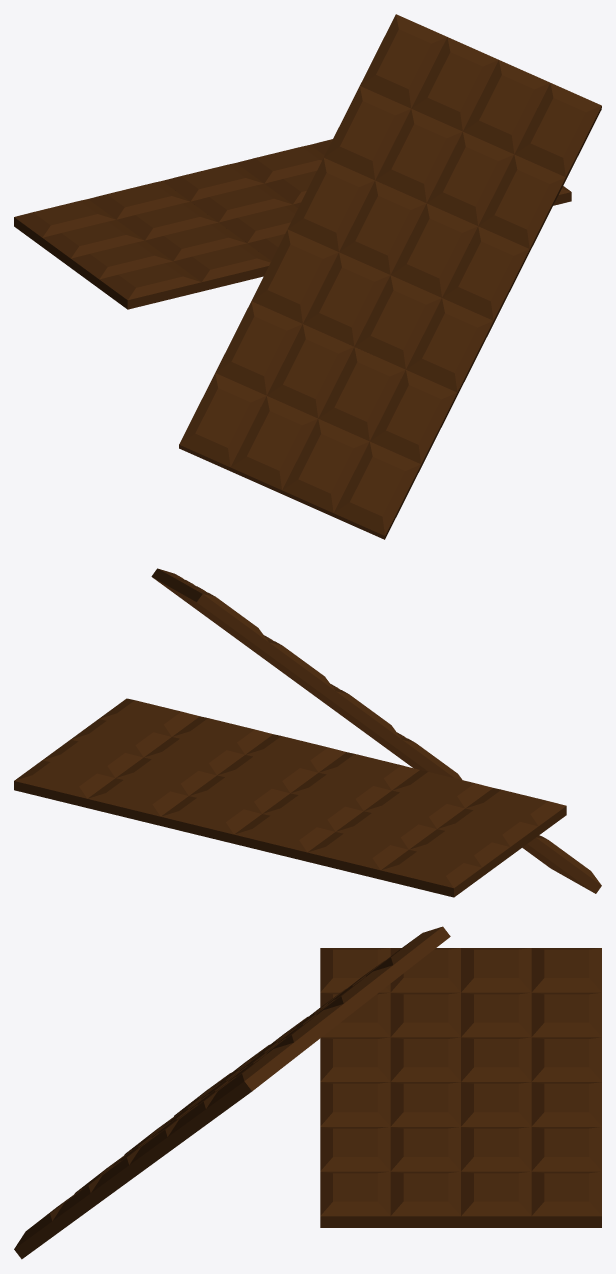
Rendered from chocolate.glb.
3 renders of one model, top to bottom at view 1: azimuth 30°, elevation 25°; view 2: azimuth 150°, elevation 25°; view 3: azimuth 270°, elevation 25°, orthographic. The views are drawn at different scales.
Visible parts, largest first — view 1: Cube.027, Cube.026, Cube.029, Cube.028, Cube.044, Cube.035, Cube.032, Cube.024, Cube.047, Cube.042, Cube.037, Cube.036 (+25 smaller); view 2: Cube.020, Cube.012, Cube.015, Cube.023, Cube.003, Cube, Cube.019, Cube.021, Cube.018, Cube.002, Cube.010, Cube.017 (+17 smaller); view 3: Cube.001, Cube.006, Cube, Cube.007, Cube.022, Cube.016, Cube.023, Cube.002, Cube.003, Cube.004, Cube.005, Cube.008 (+21 smaller).
Boxes of the visible parts, x1,y1,x2,y2 form: Cube.027: (333,441,421,539); Cube.026: (282,418,369,516); Cube.029: (179,373,266,470); Cube.028: (230,396,317,493); Cube.044: (478,154,565,251); Cube.035: (406,298,493,395); Cube.032: (442,226,529,323); Cube.024: (370,370,457,467); Cube.047: (514,83,601,180); Cube.042: (324,86,410,180); Cube.037: (251,229,338,323); Cube.036: (303,252,390,346); Cube.020: (380,850,482,897); Cube.012: (234,814,334,861); Cube.015: (160,796,261,843); Cube.023: (307,832,408,879); Cube.003: (87,778,188,825); Cube: (14,760,114,807); Cube.019: (437,808,538,855); Cube.021: (409,829,510,876); Cube.018: (465,788,566,835); Cube.002: (116,757,216,795); Cube.010: (319,752,419,790); Cube.017: (392,770,492,808); Cube.001: (461,1171,531,1227); Cube.006: (320,1171,390,1227); Cube: (531,1171,601,1227); Cube.007: (390,1171,460,1227); Cube.022: (461,992,531,1037); Cube.016: (390,992,460,1037); Cube.023: (531,992,601,1037); Cube.002: (461,1127,531,1171); Cube.003: (531,1127,601,1171); Cube.004: (390,1127,460,1171); Cube.005: (320,1127,390,1171); Cube.008: (390,1082,460,1126).
Bounding box in the file's own units: 0.3016 × 0.2305 × 0.2776.
